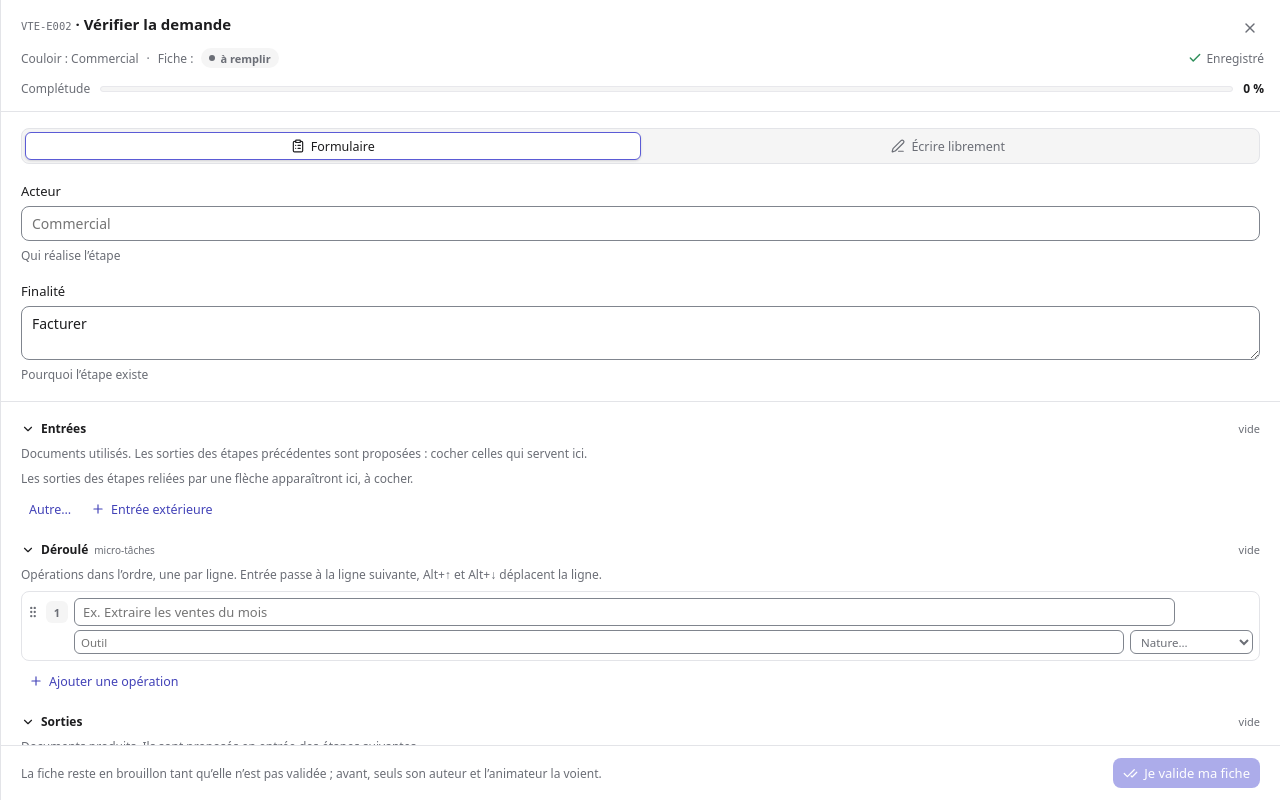
Test: the two modes (B-4-17 to B-4-20) › a radio group « Formulaire » and « Écrire librement »; the free text in 14 lines of 20 000 characters; both contents kept
Click the radio button labelled "Écrire librement" at (948,146), box [640,132,1256,160]
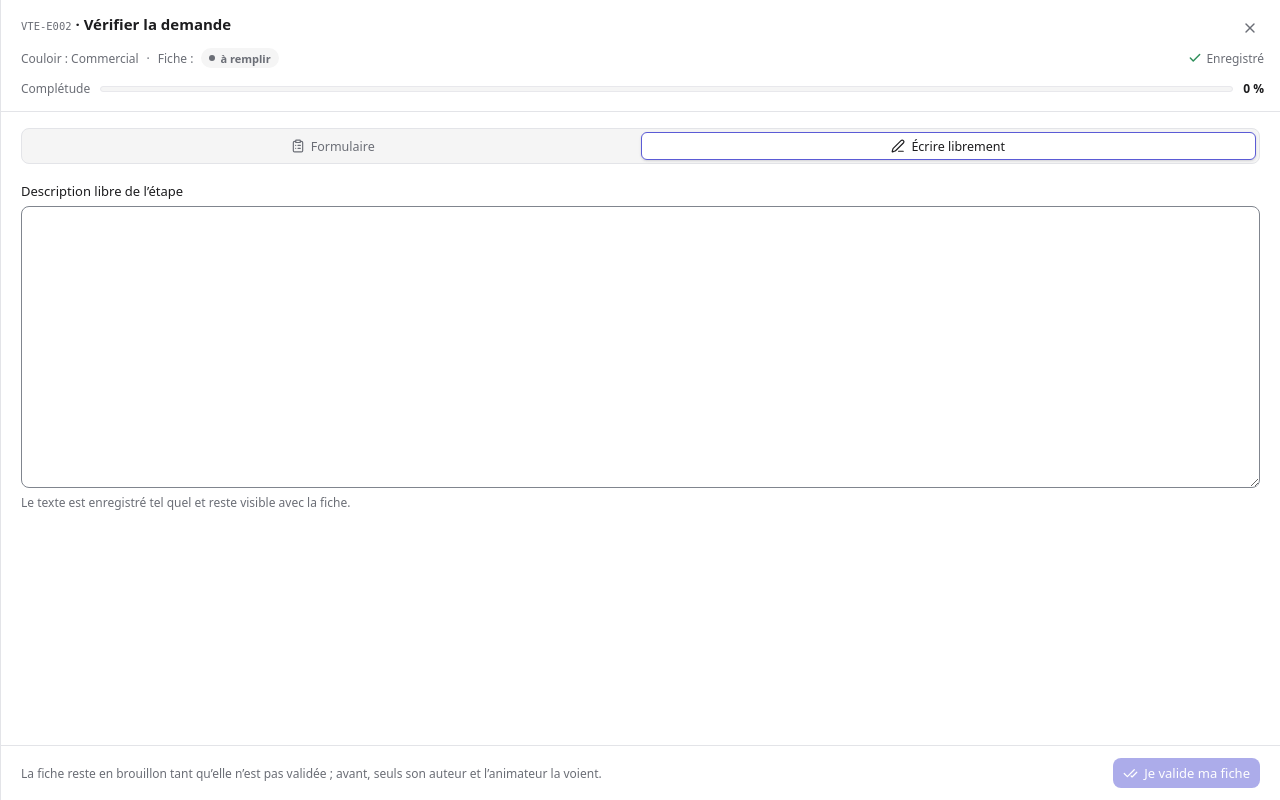
Type "Notes libres" into the text box with test id "sheet-free-text" at (640,347), box [21,206,1260,488]
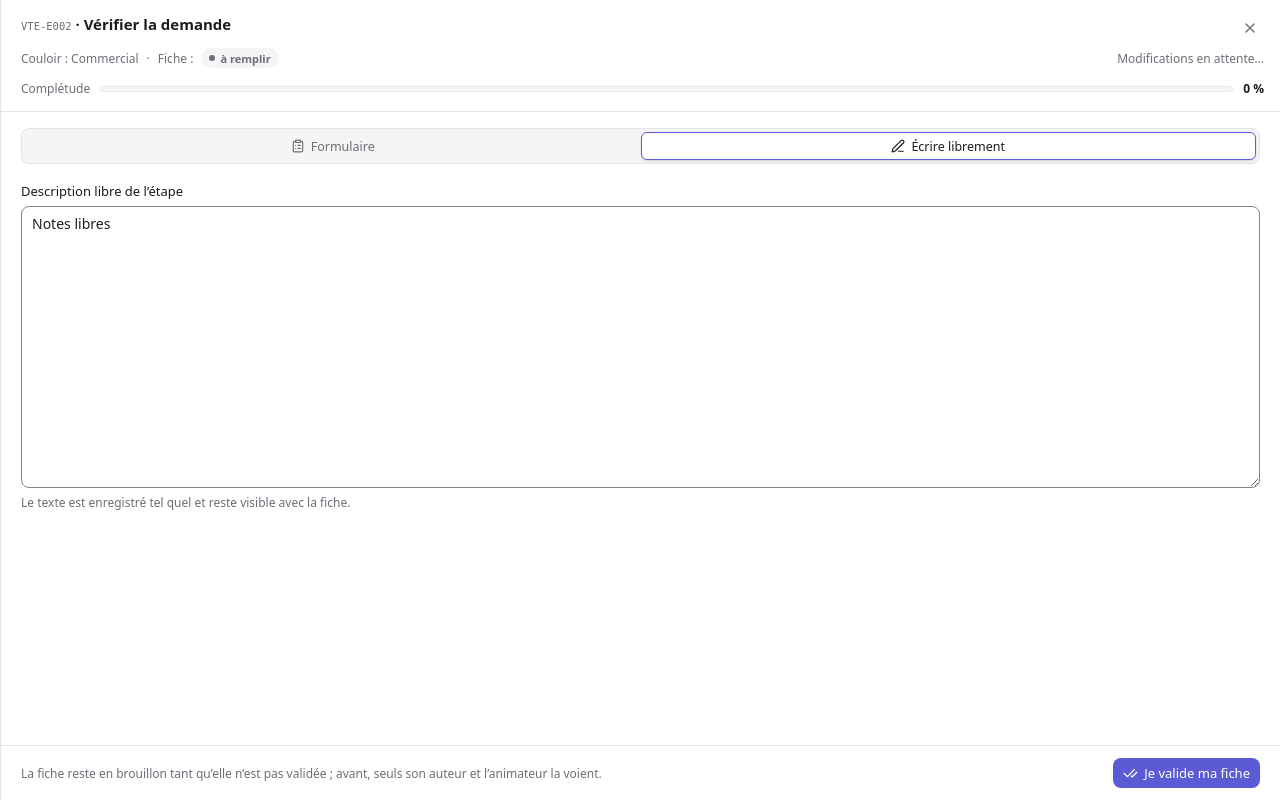
Click the radio button labelled "Formulaire" at (333,146), box [25,132,640,160]
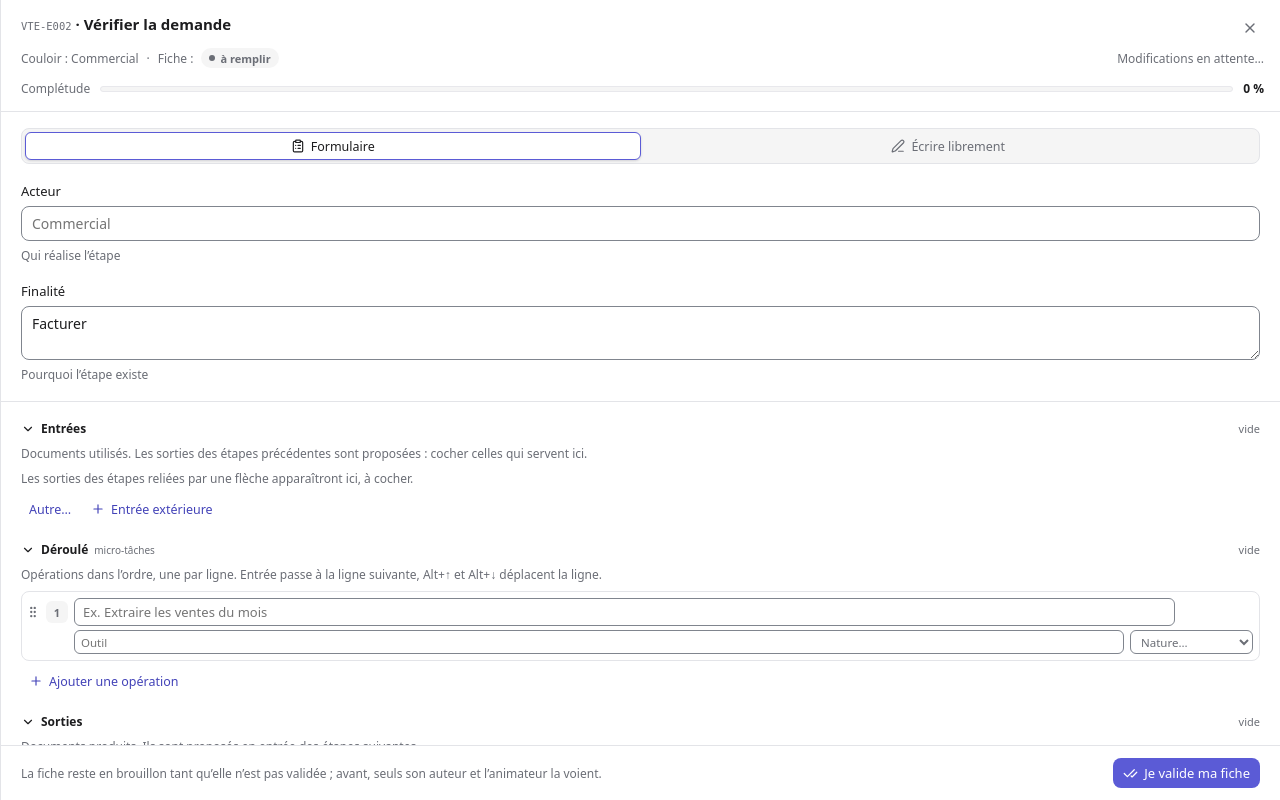
Expected: the text box with test id "sheet-purpose" holds "Facturer", [21,306,1260,360]
Click the radio button labelled "Écrire librement" at (948,146), box [640,132,1256,160]
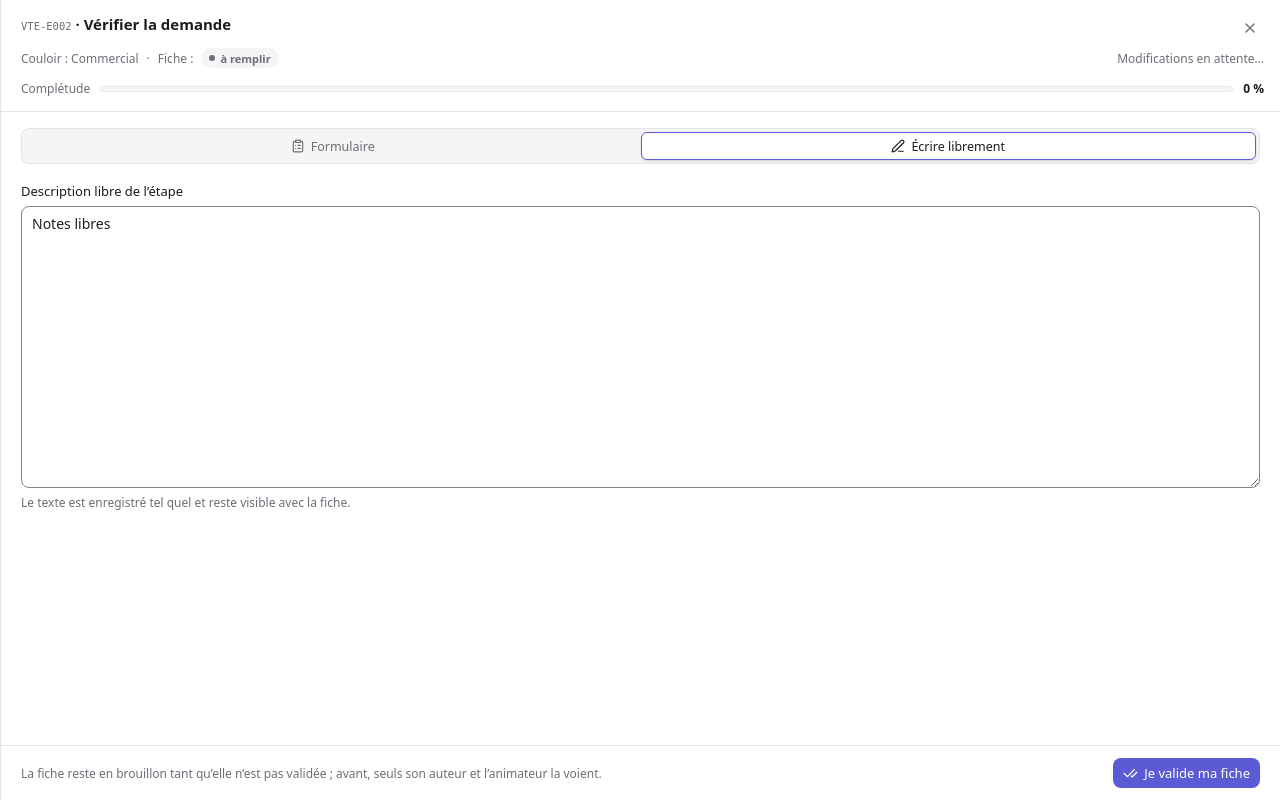
Expected: the text box with test id "sheet-free-text" holds "Notes libres", [21,206,1260,488]
